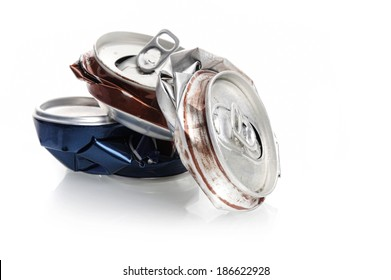can: (31, 26, 285, 220)
